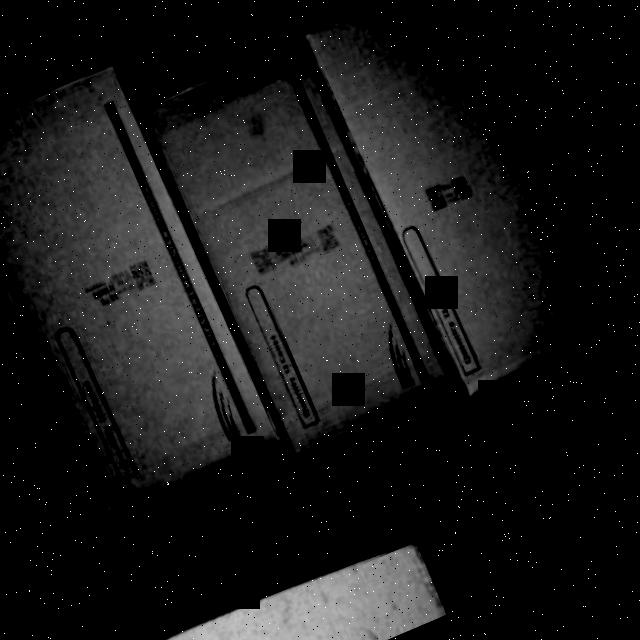box: (0, 59, 280, 520), (140, 41, 450, 455), (306, 0, 631, 392)
